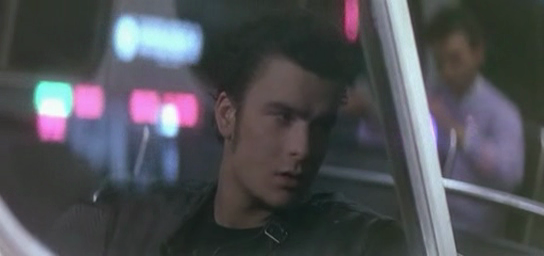cu: (1, 1, 544, 256)
face: (241, 72, 336, 206), (431, 42, 467, 93)
person: (38, 1, 410, 256), (418, 1, 526, 242)
